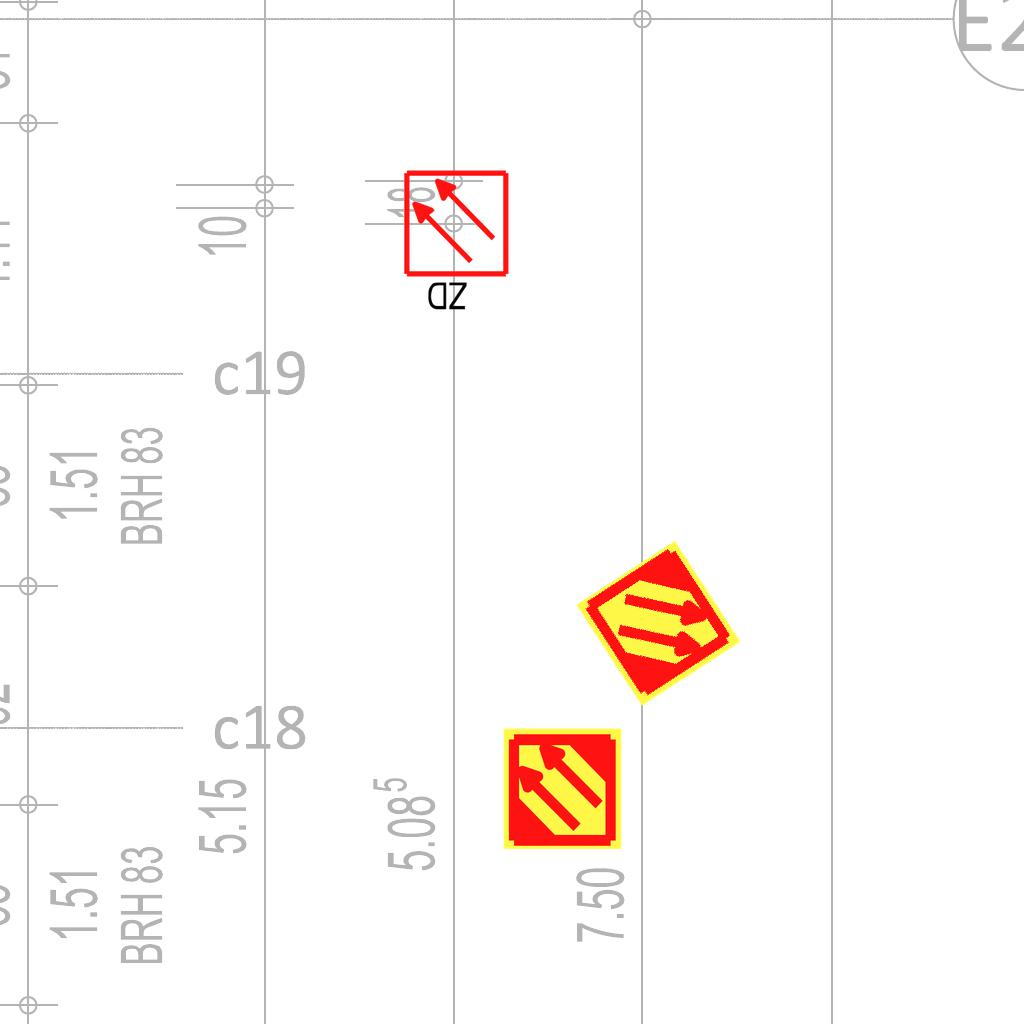ASR_Ansaugrauchmelder: (572, 537, 745, 710), (500, 726, 625, 851)
ZD_Melder_in_Zwischendecke_mit_Revisionsoeffnung_mind_40_x_40_cm: (401, 168, 515, 317)
